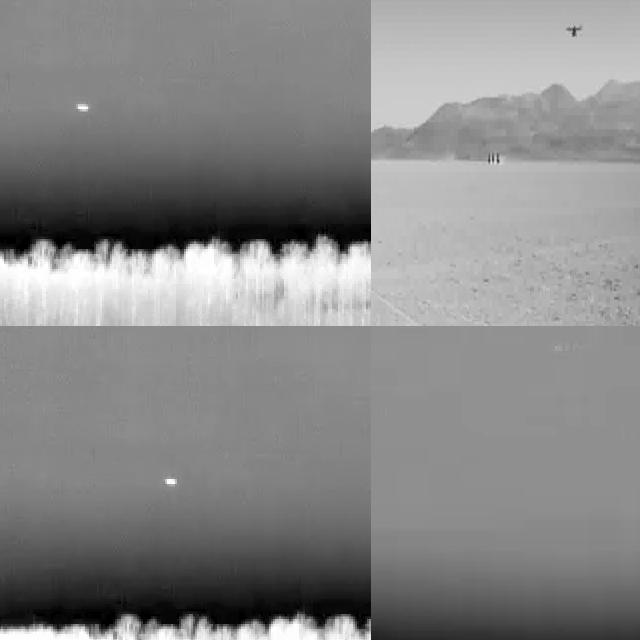0: (545, 340, 573, 364)
1: (158, 472, 190, 494), (71, 99, 101, 119)
drone: (564, 20, 588, 48)
